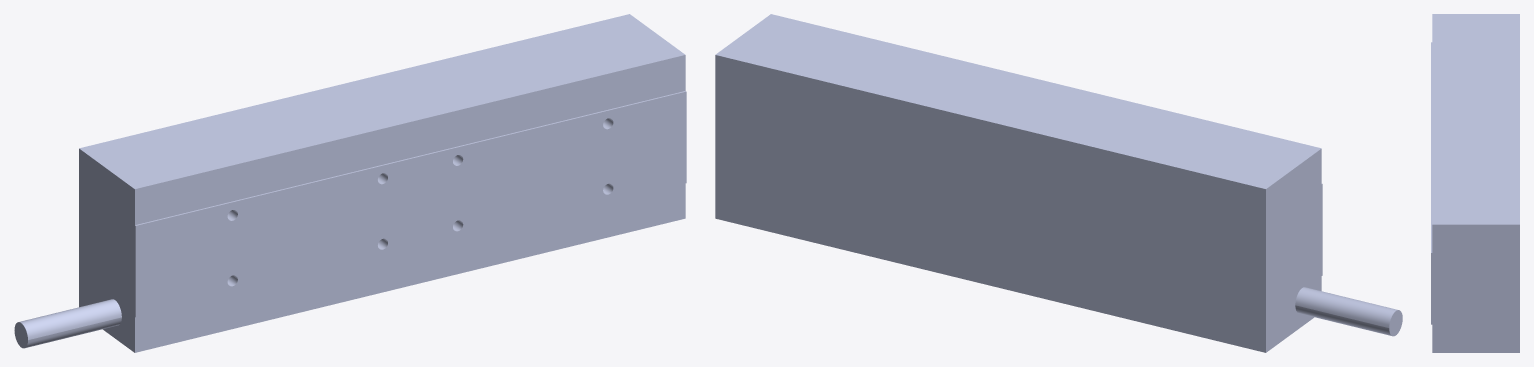
File: MTA-9.glb
3 views of the same model, side by side, from view 1: azimuth 30°, elevation 25°; view 2: azimuth 150°, elevation 25°; view 3: azimuth 270°, elevation 25° (orthographic). The views are drawn at different scales.
Visible parts, largest first — view 1: MTA-9_node_1; view 2: MTA-9_node_1; view 3: MTA-9_node_1.
Boxes of the visible parts, x1,y1,x2,y2 form: MTA-9_node_1: (14,14,686,352); MTA-9_node_1: (715,14,1402,352); MTA-9_node_1: (1431,14,1519,352).
Bounding box in the file's own units: 206 × 50 × 31.4.
